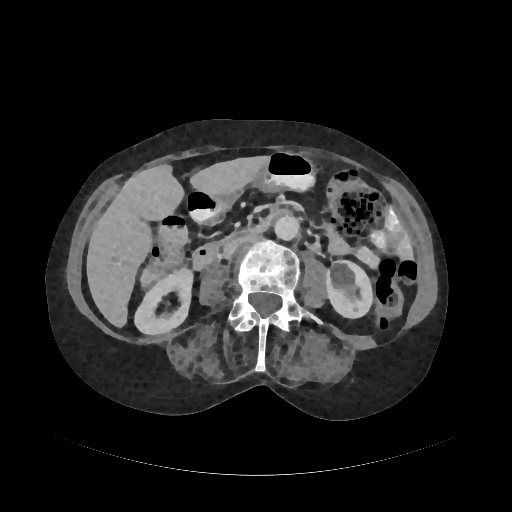Lesion: (326, 263, 359, 291)
